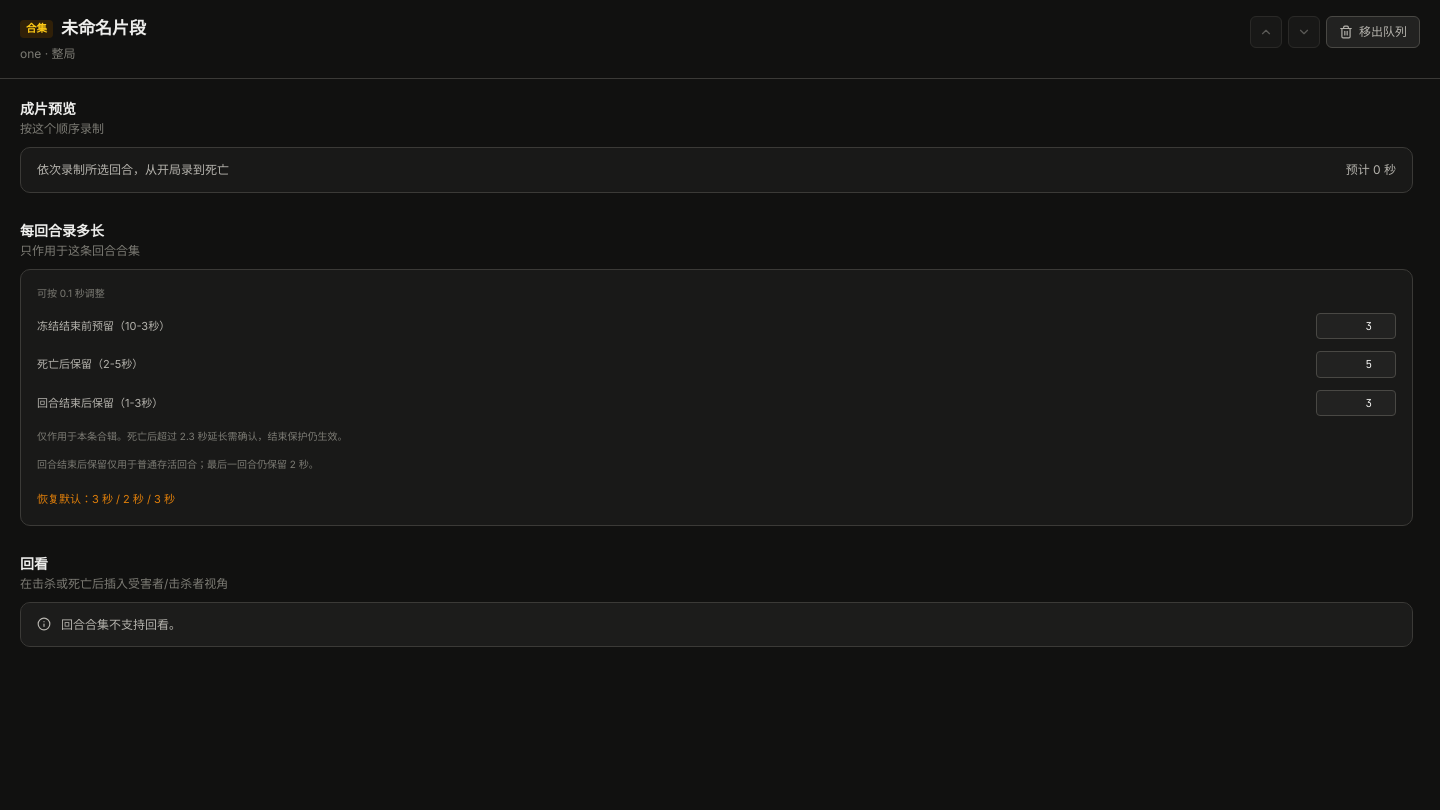
Test: reducing an accepted long tail needs no warning, but extending again warns
Replace the text in the number field labelled "死亡后保留（2-5秒）" with "4" at coordinates (1356, 364), box [1316,351,1396,378]
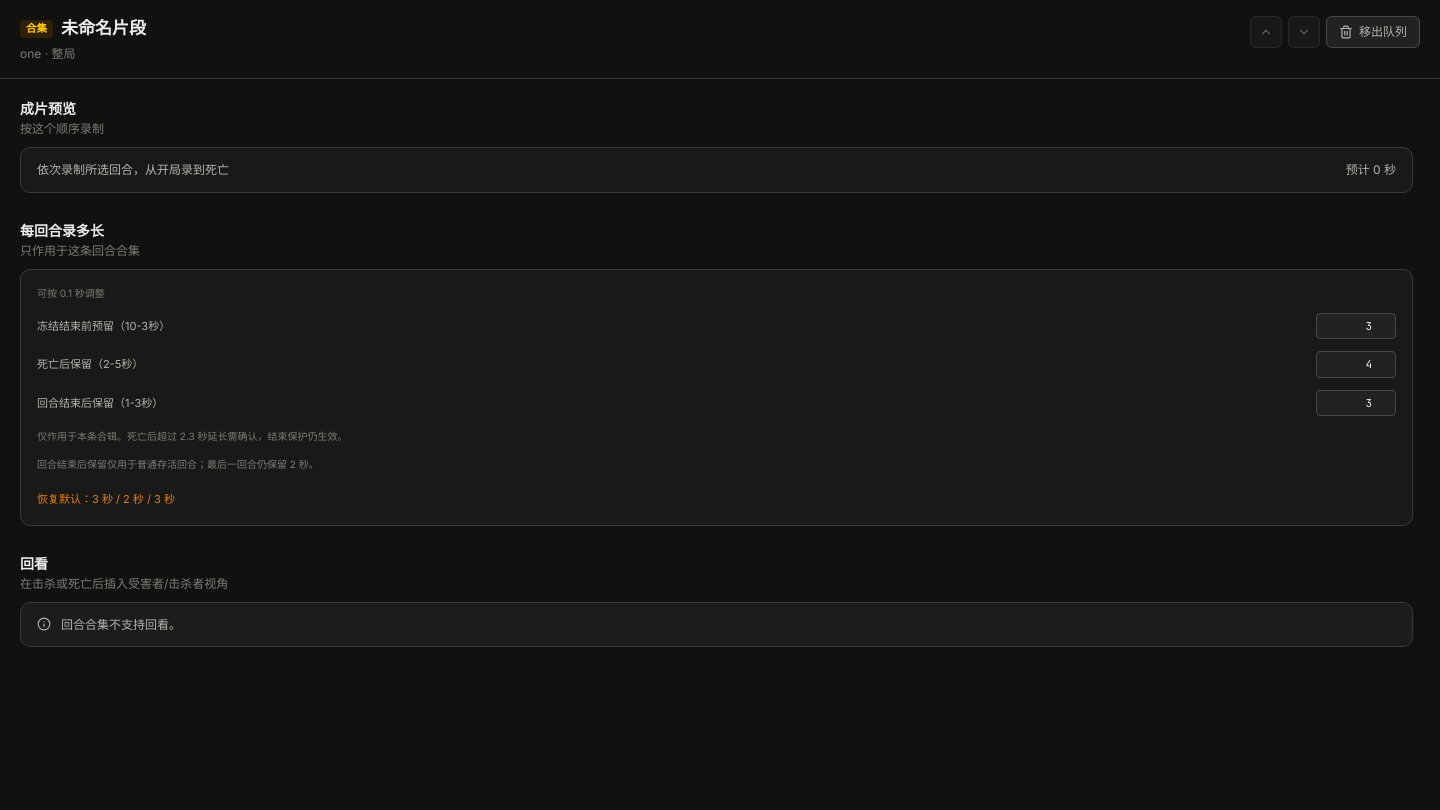
Replace the text in the number field labelled "死亡后保留（2-5秒）" with "4.1" at coordinates (1356, 364), box [1316,351,1396,378]
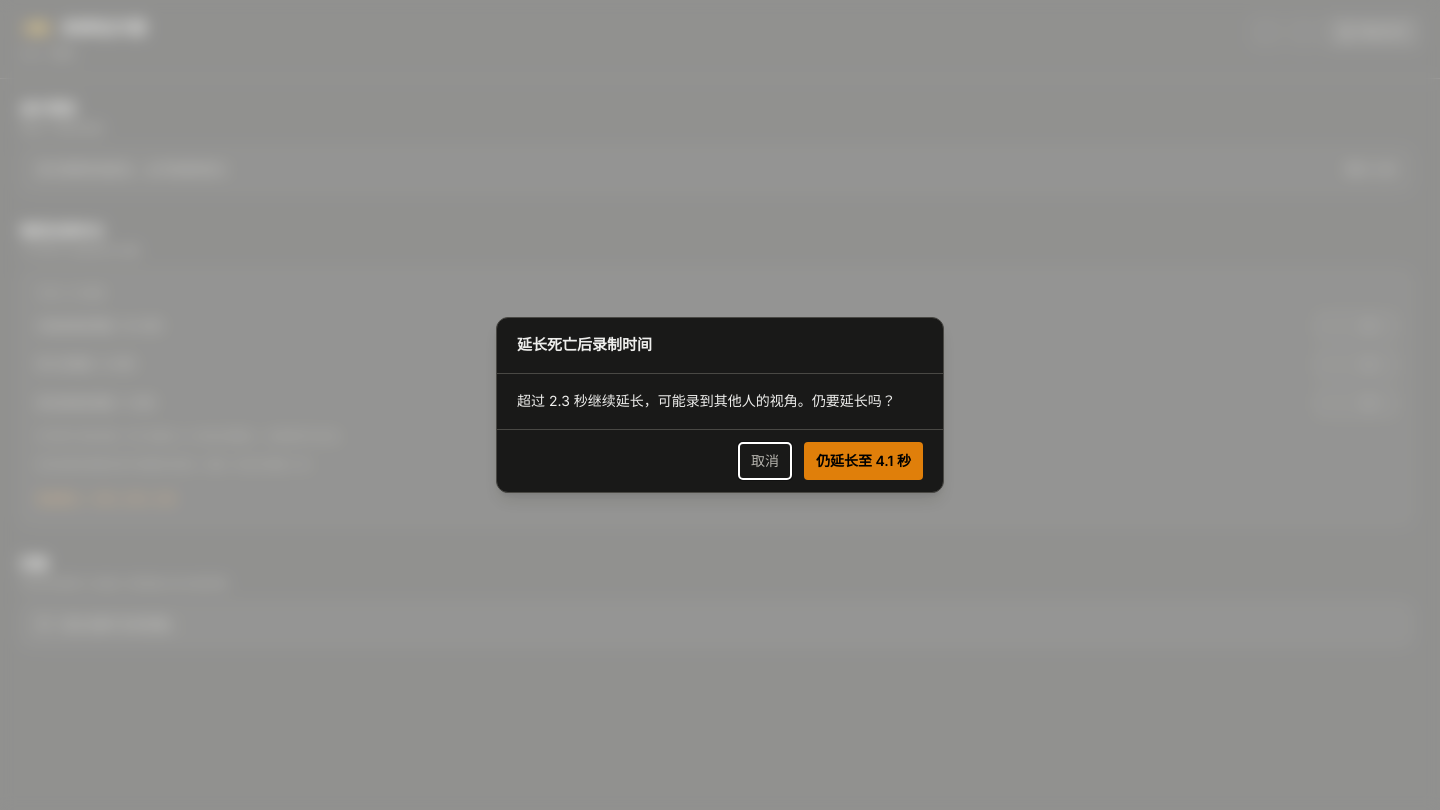
Now the dialog is shown
Press Escape in the button "取消", box [738,442,792,480]
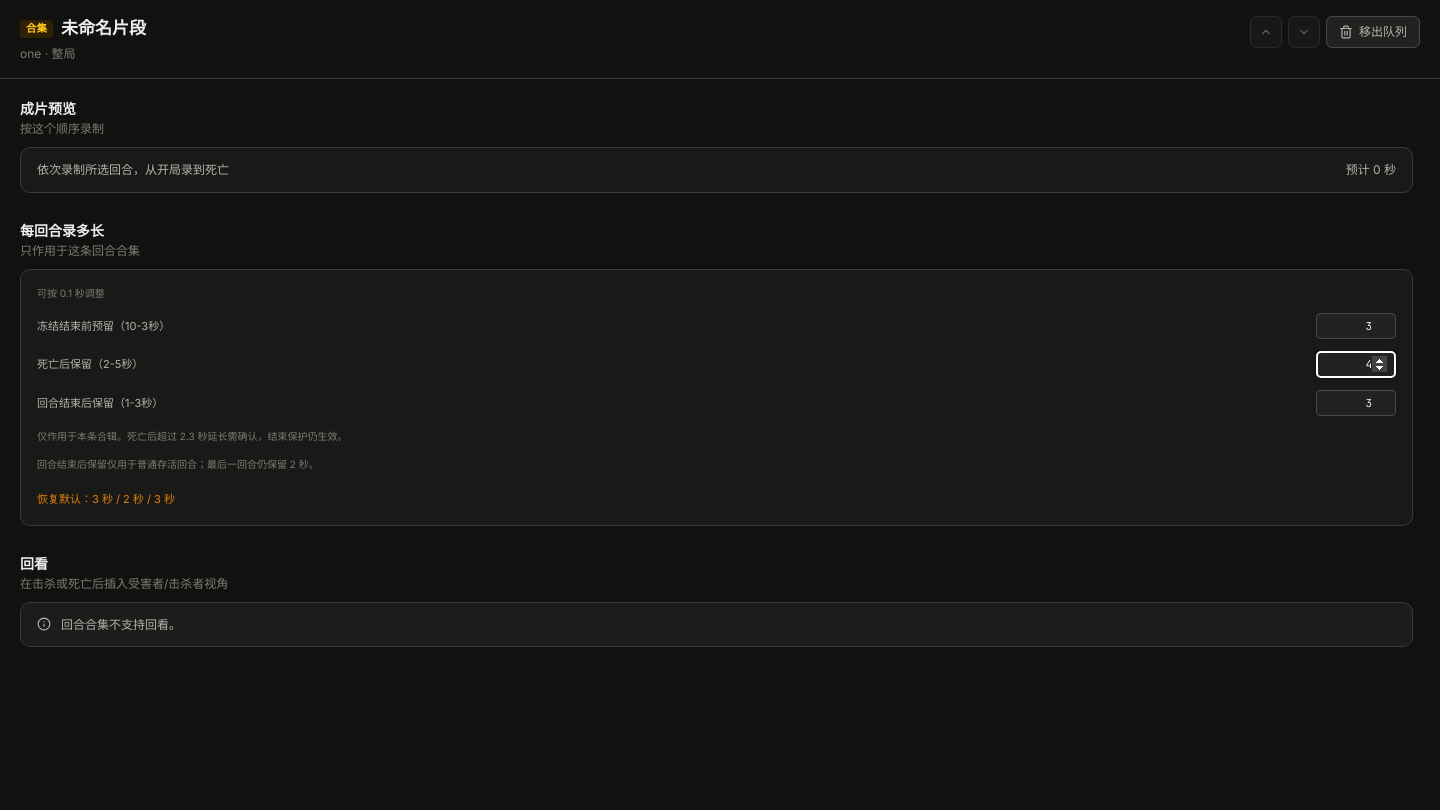
Now the dialog is gone
